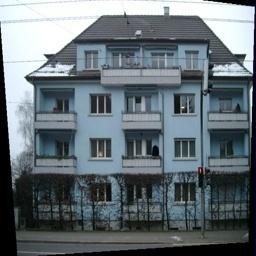building: (42, 28, 256, 251)
